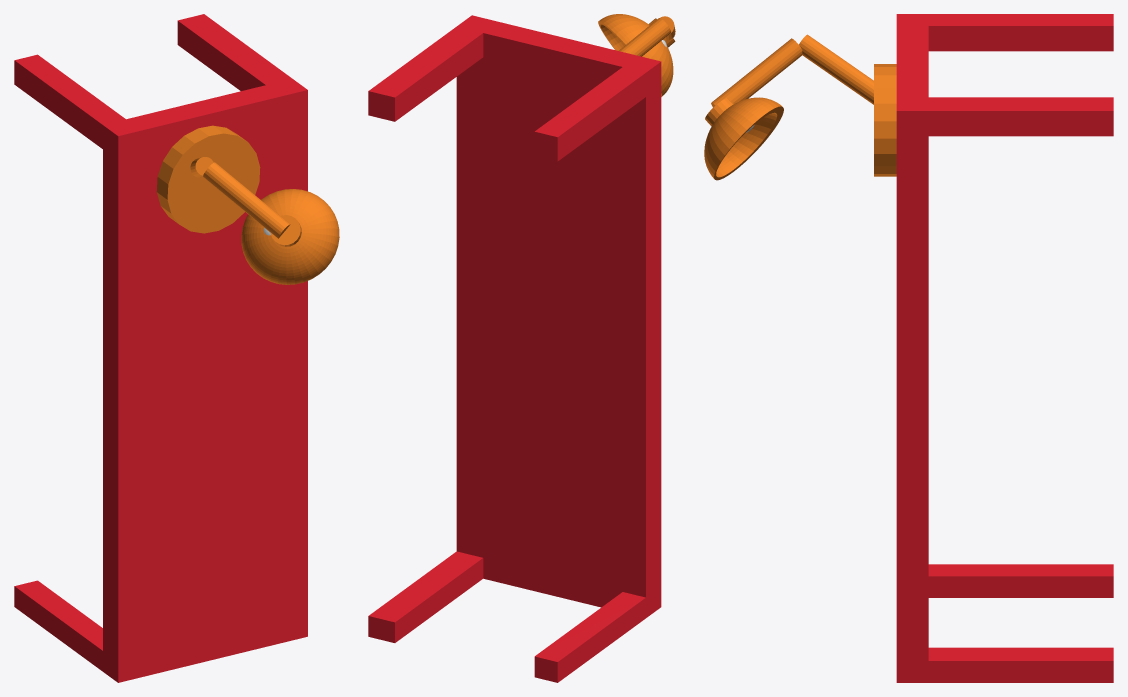
File: tinker.obj
The picture shows the model from 3 angles, left to right: view 1: azimuth 30°, elevation 25°; view 2: azimuth 150°, elevation 25°; view 3: azimuth 270°, elevation 25°; orthographic projection. The views are drawn at different scales.
Visible parts, largest first — view 1: group_0_15277357, group_0_16089887; view 2: group_0_15277357, group_0_16089887; view 3: group_0_15277357, group_0_16089887.
Boxes of the visible parts, x1,y1,x2,y2 form: group_0_15277357: (14,14,307,682); group_0_16089887: (156,125,339,284); group_0_15277357: (368,15,661,682); group_0_16089887: (598,14,675,96); group_0_15277357: (896,14,1113,682); group_0_16089887: (704,34,896,180).
Bounding box in the file's own units: 57 × 157 × 102.
